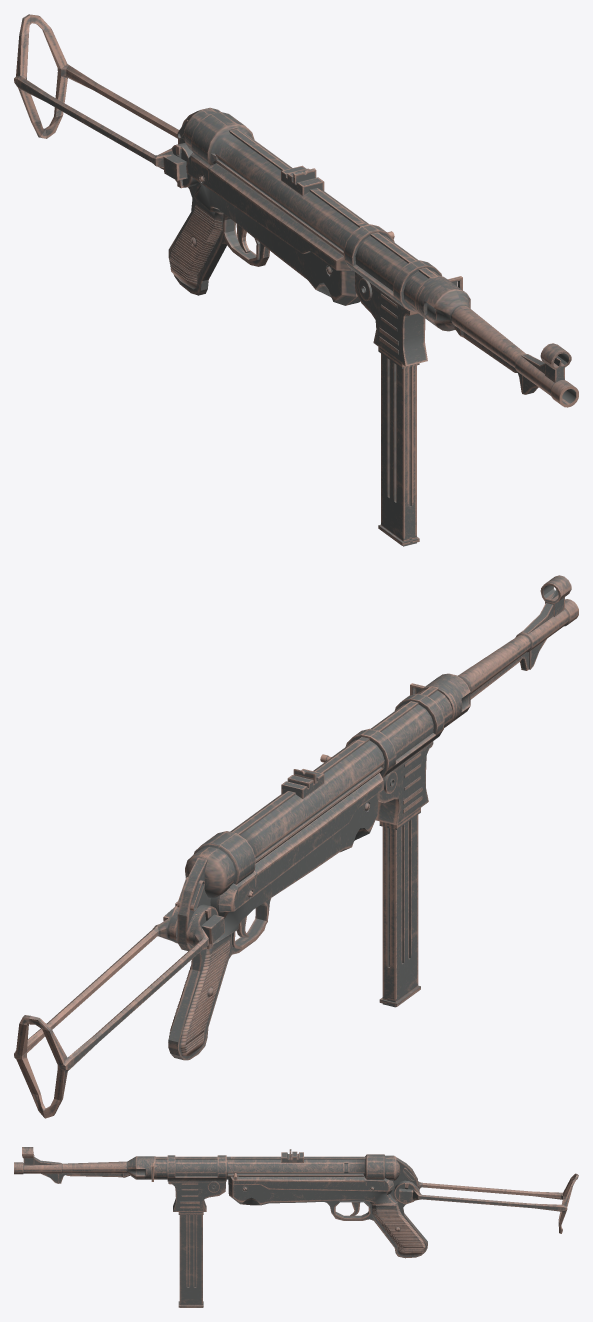
The picture shows the model from 3 angles, top to bottom: view 1: azimuth 30°, elevation 25°; view 2: azimuth 150°, elevation 25°; view 3: azimuth 270°, elevation 25°; orthographic projection. The views are drawn at different scales.
Visible parts, largest first — view 1: MP; view 2: MP; view 3: MP.
Boxes of the visible parts, x1=… form: MP: x1=14, y1=14, x2=578, y2=546; MP: x1=14, y1=575, x2=578, y2=1118; MP: x1=14, y1=1147, x2=578, y2=1307.
Size of the model in its own units: 0.1316 by 0.6192 by 2.
1 material, 1 textured.
